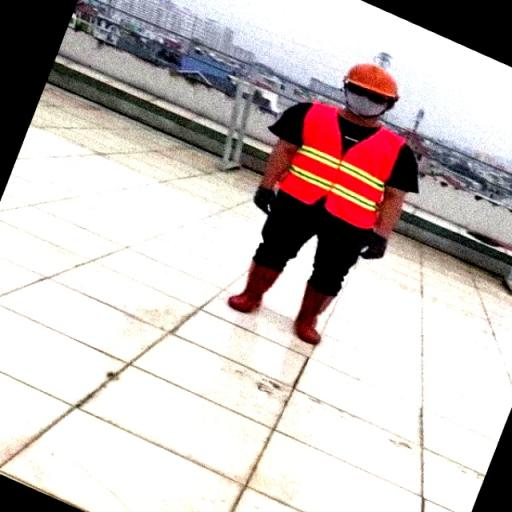Person: (223, 52, 430, 355)
boots: (293, 262, 367, 362), (227, 244, 294, 324)
gloves: (356, 220, 405, 272), (252, 179, 290, 220)
goggles: (320, 78, 410, 108)
helmet: (340, 62, 418, 98)
vest: (272, 102, 428, 246)
